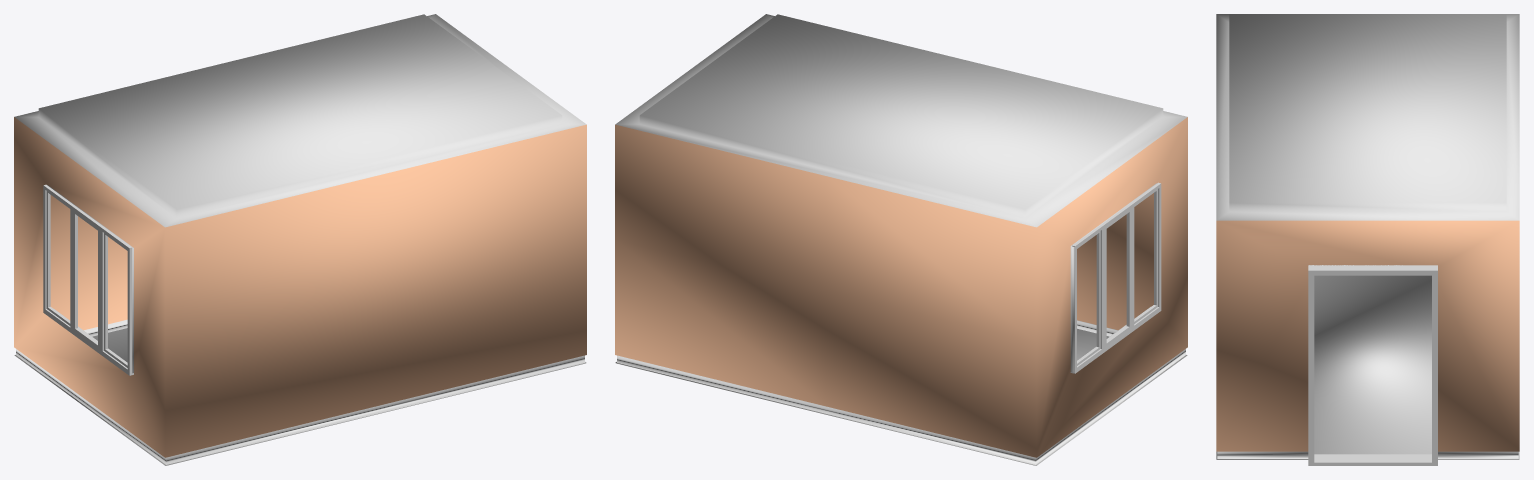
File: Ыьщещмфшн.fbx
3 views of the same model, side by side, from view 1: azimuth 30°, elevation 25°; view 2: azimuth 150°, elevation 25°; view 3: azimuth 270°, elevation 25° (orthographic).
Visible parts, largest first — view 1: Room1.4, Cube; view 2: Room1.4, Cube; view 3: Room1.4, Cube.003.
Boxes of the visible parts, box(x1,y1,x2,y2) form: Room1.4: box(14, 14, 586, 465); Cube: box(43, 184, 133, 375); Room1.4: box(615, 14, 1187, 465); Cube: box(1070, 182, 1161, 373); Room1.4: box(1216, 14, 1519, 459); Cube.003: box(1308, 265, 1437, 465).
Bounding box in the file's own units: 516 × 280 × 309.
